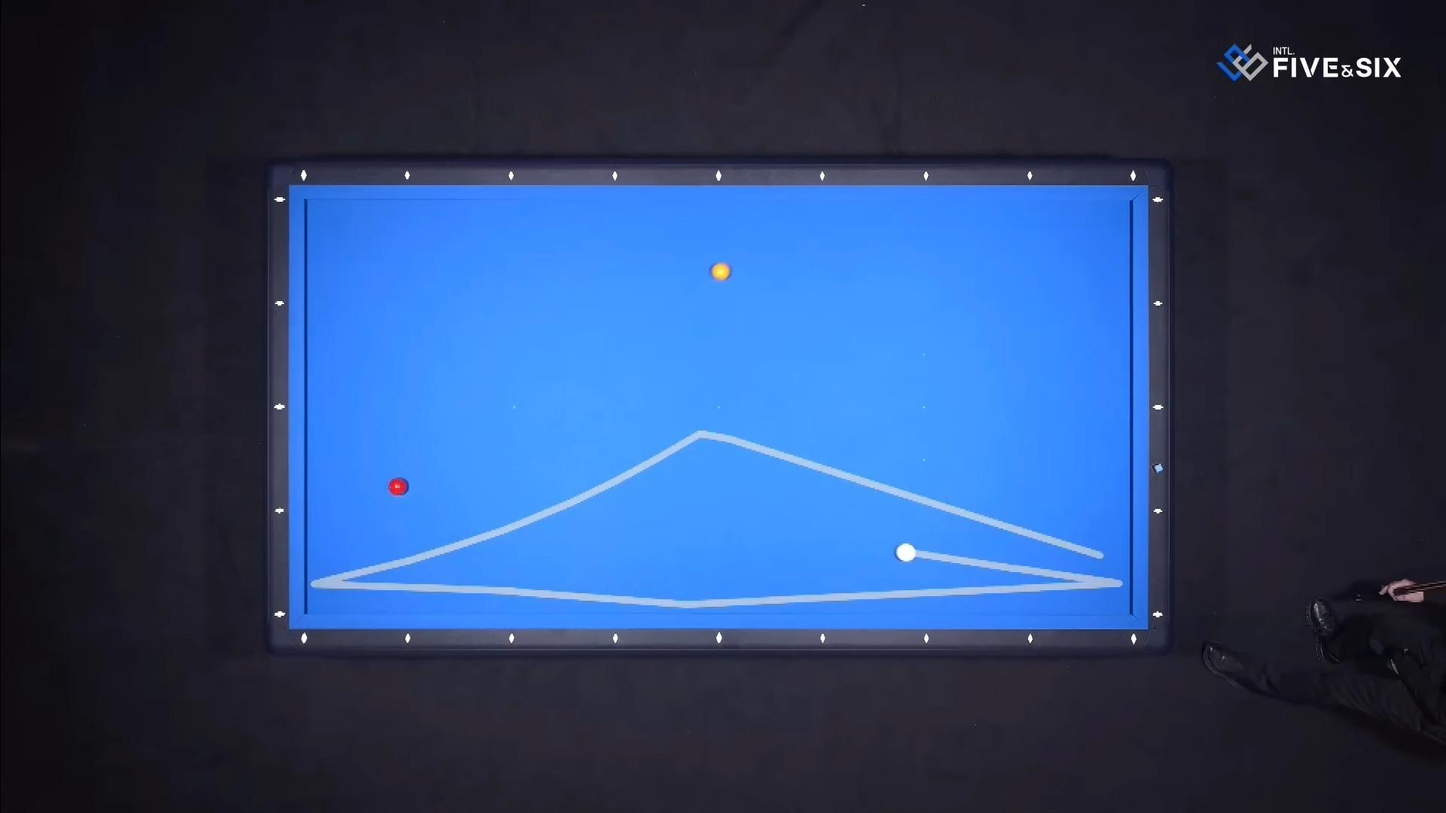Red: (386, 480, 410, 498)
White: (892, 542, 917, 563)
Yellow: (710, 263, 736, 283)
